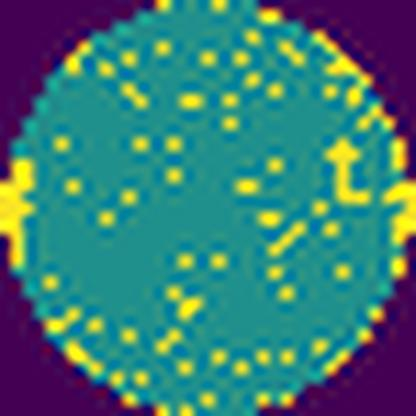Edge-Loc: (0, 153, 41, 268), (383, 181, 416, 249)
